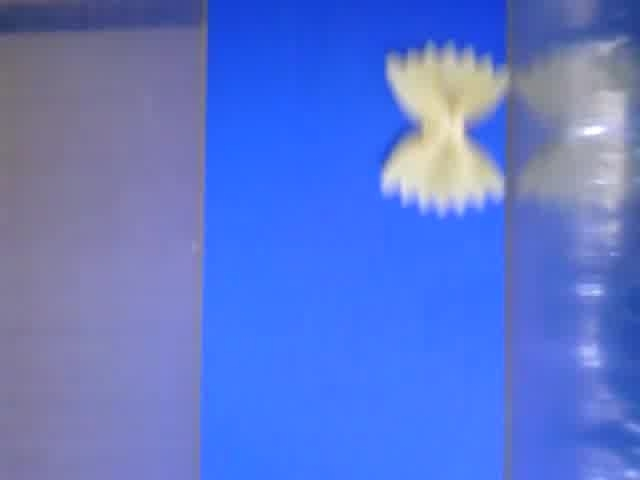farfalle: (380, 40, 505, 213)
